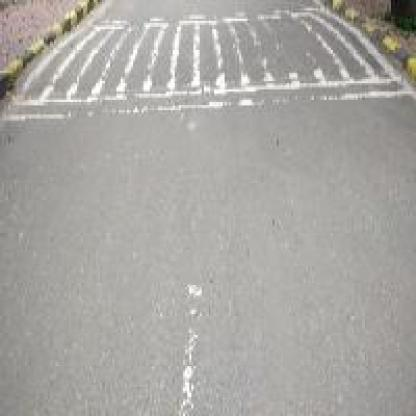Speed Bump: (4, 4, 412, 123)
